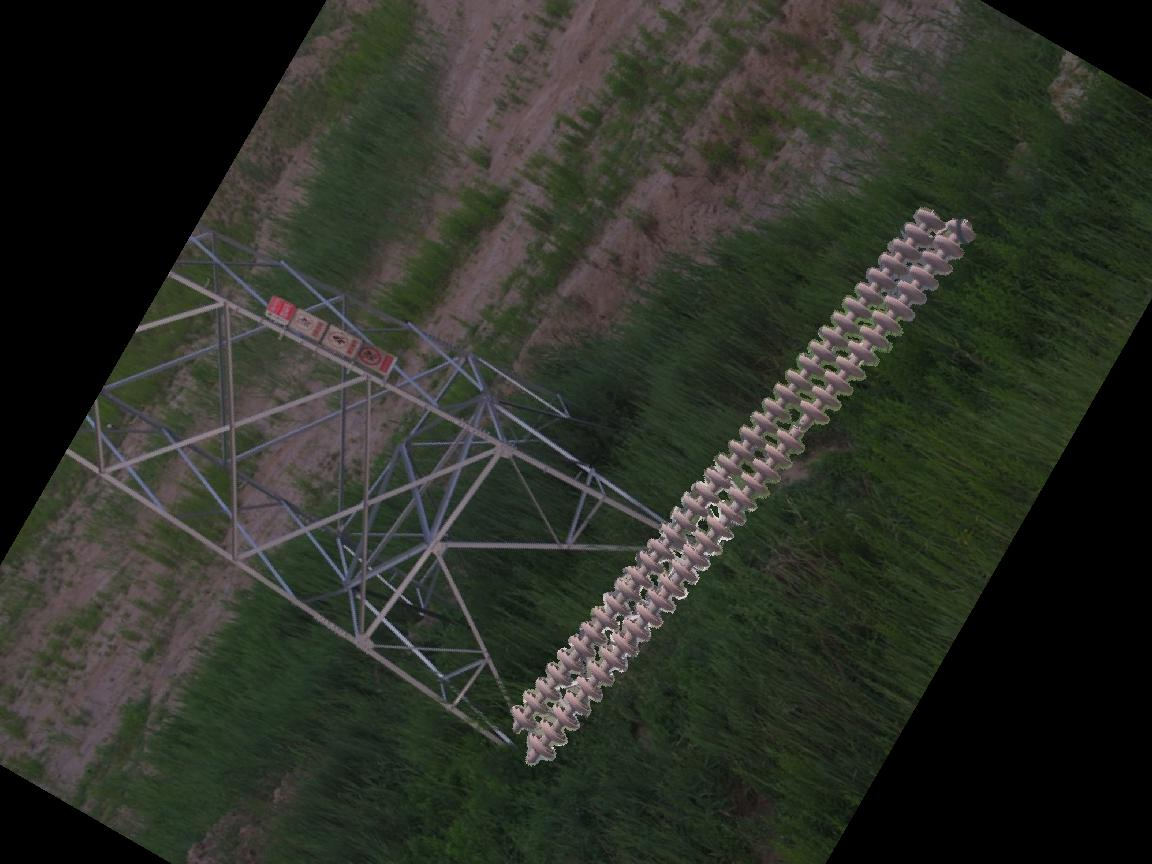insulator: (505, 203, 981, 766)
insulator_stringdrop: (772, 396, 832, 457)
